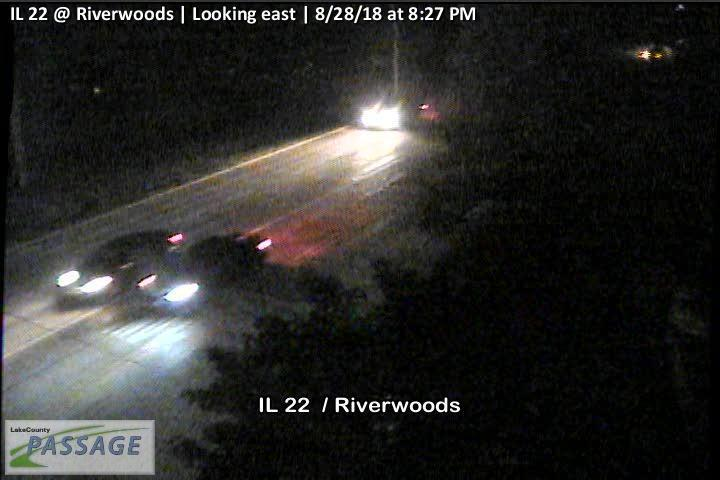Sedan: (138, 230, 271, 313), (57, 227, 183, 299)
